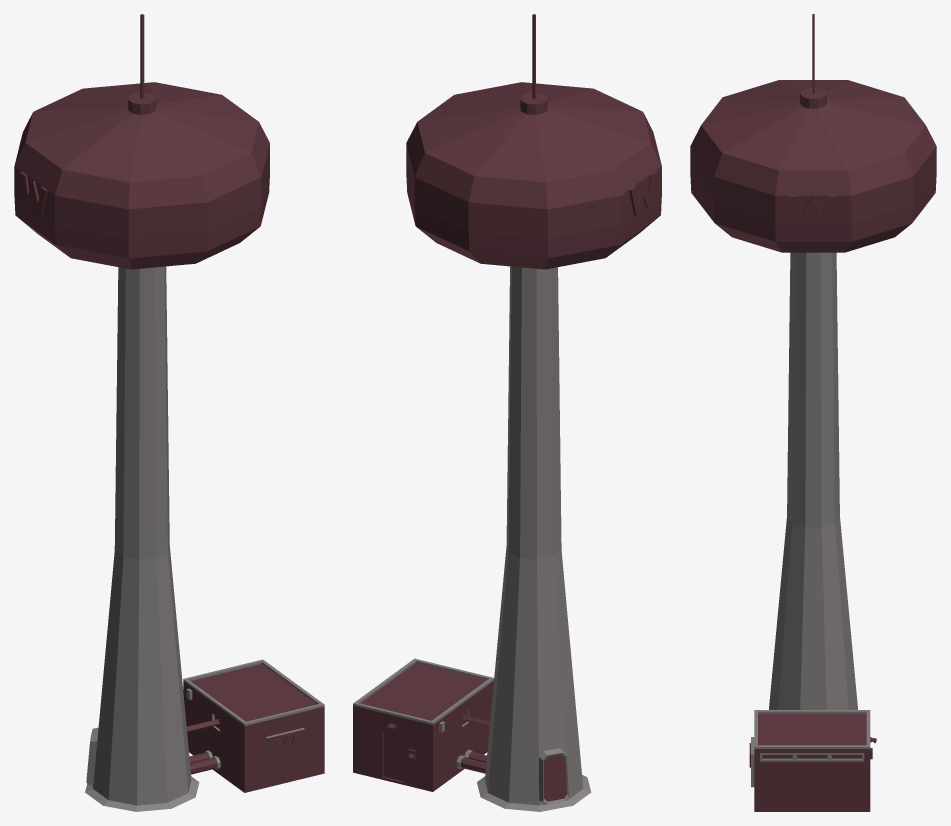
File: water-tower-big.fbx
The picture shows the model from 3 angles, left to right: view 1: azimuth 30°, elevation 25°; view 2: azimuth 150°, elevation 25°; view 3: azimuth 270°, elevation 25°; orthographic projection. The views are drawn at different scales.
Parts seen in each view (by area): view 1: water-tower-big; view 2: water-tower-big; view 3: water-tower-big.
Boxes of the visible parts, x1,y1,x2,y2 form: water-tower-big: (14, 14, 324, 811); water-tower-big: (353, 14, 661, 811); water-tower-big: (690, 14, 936, 811).
Bounding box in the file's own units: 12.24 × 34.67 × 10.63.
